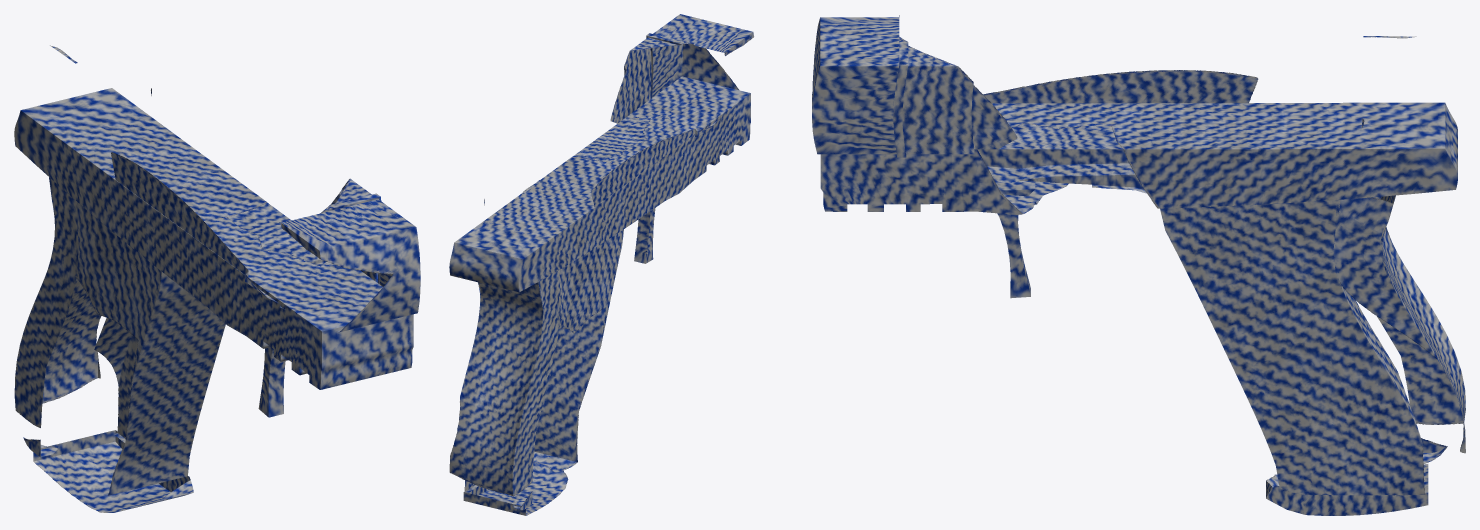
The model's file is pistolet.fbx.
The picture shows the model from 3 angles, left to right: view 1: azimuth 30°, elevation 25°; view 2: azimuth 150°, elevation 25°; view 3: azimuth 270°, elevation 25°; orthographic projection. The views are drawn at different scales.
Visible parts, largest first — view 1: Box007; view 2: Box007; view 3: Box007.
Part boxes in pixels (bbox=[...]): Box007: bbox=[14, 45, 420, 512]; Box007: bbox=[449, 14, 753, 515]; Box007: bbox=[812, 15, 1465, 515].
Size of the model in its own units: 16.34 by 68.76 by 91.27.
